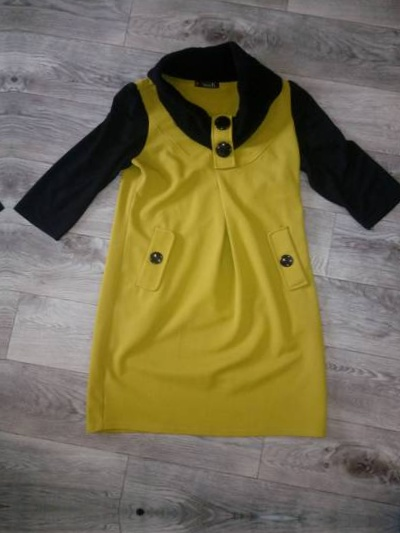Dress: (17, 19, 400, 474)
